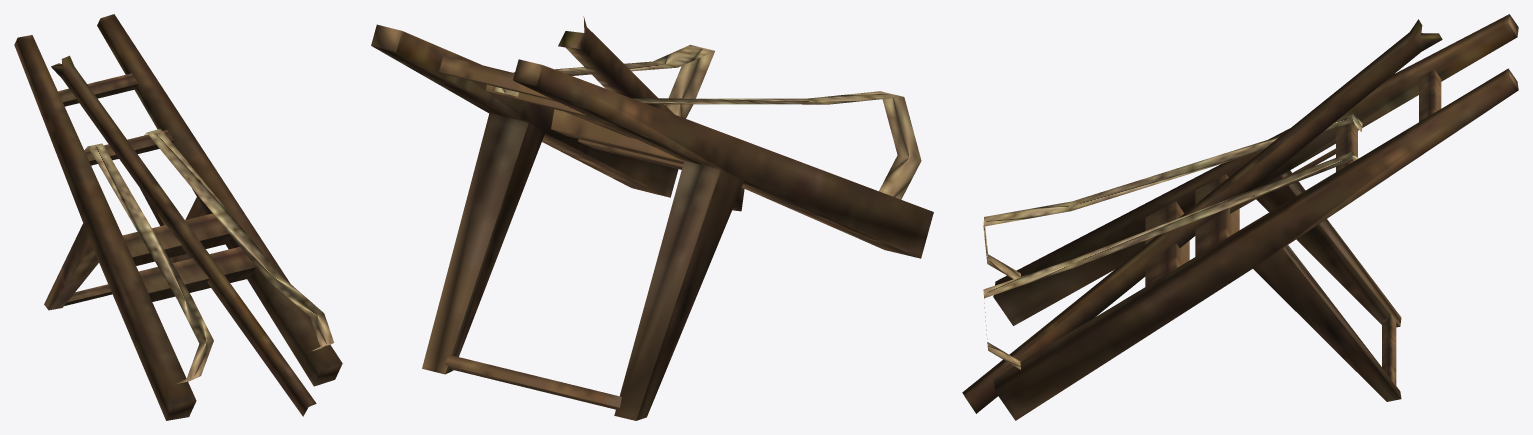
File: b_general_obj_10_1.glb
3 views of the same model, side by side, from view 1: azimuth 30°, elevation 25°; view 2: azimuth 150°, elevation 25°; view 3: azimuth 270°, elevation 25° (orthographic). The views are drawn at different scales.
Parts seen in each view (by area): view 1: Sphere01; view 2: Sphere01; view 3: Sphere01.
Part boxes in pixels (left/top/right/bottom): Sphere01: left=14, top=14, right=342, bottom=420; Sphere01: left=371, top=16, right=933, bottom=420; Sphere01: left=962, top=14, right=1518, bottom=420.
Size of the model in its own units: 0.7827 by 1.12 by 1.67.
Materials: 1 (1 with a texture image).
